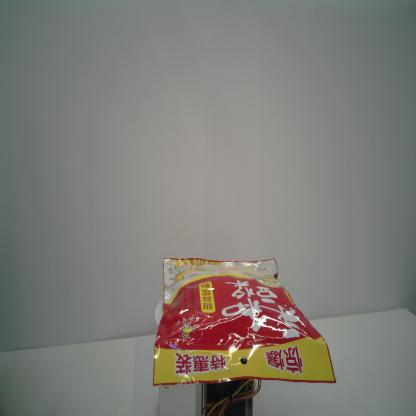Instant Drink: (151, 255, 338, 388)
